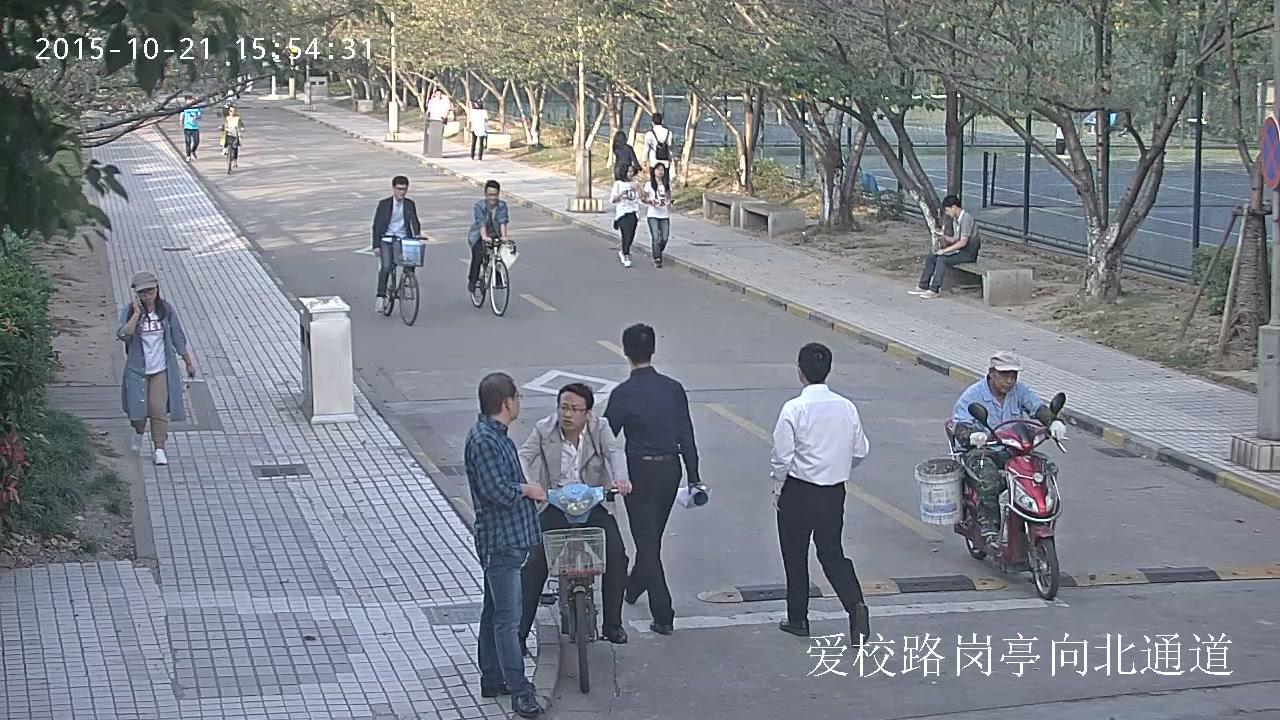face: (558, 391, 586, 430), (992, 371, 1016, 392), (137, 287, 156, 303), (510, 391, 519, 417), (394, 183, 407, 199), (486, 187, 498, 203), (945, 207, 957, 217), (654, 164, 664, 176), (627, 165, 633, 179), (229, 107, 235, 115), (185, 98, 192, 103), (436, 91, 441, 96), (476, 102, 480, 107)
